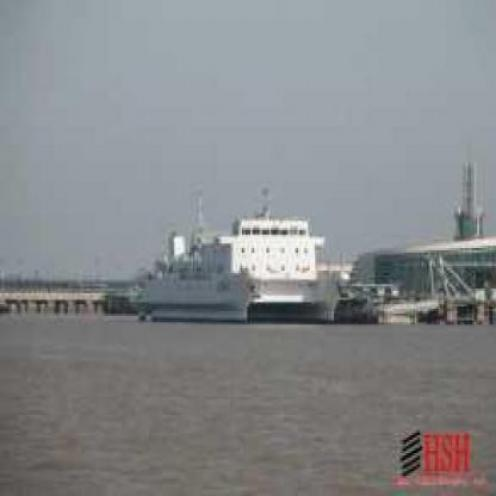Ship: (123, 217, 348, 336)
